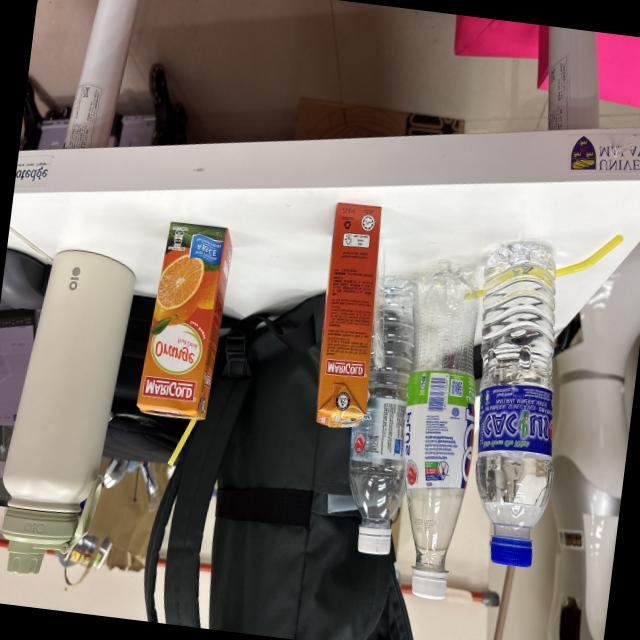drink_carton: (127, 213, 239, 473), (305, 193, 394, 437)
plastic_bottle: (444, 230, 584, 575), (372, 250, 502, 606), (332, 257, 438, 565)
